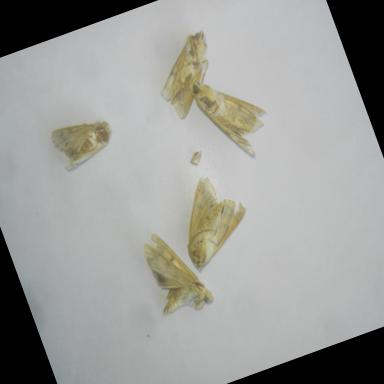abw: (182, 54, 285, 176), (162, 162, 264, 276), (130, 213, 224, 327), (138, 22, 234, 128), (46, 108, 124, 176)
